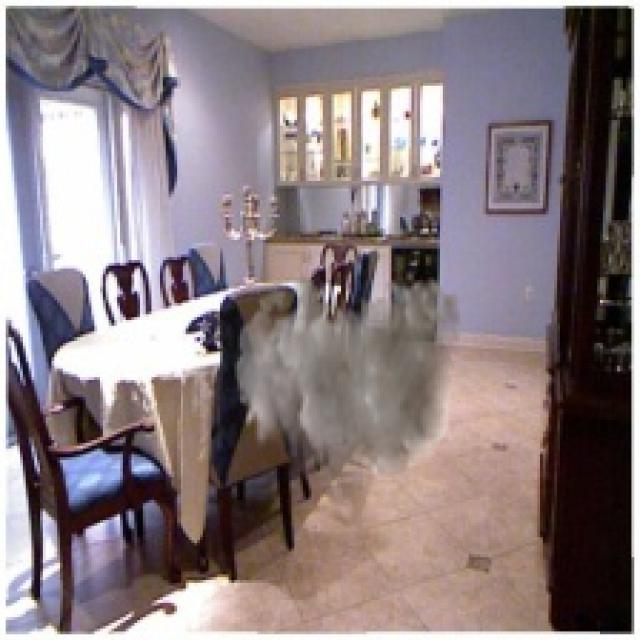smoke: (234, 268, 463, 508)
